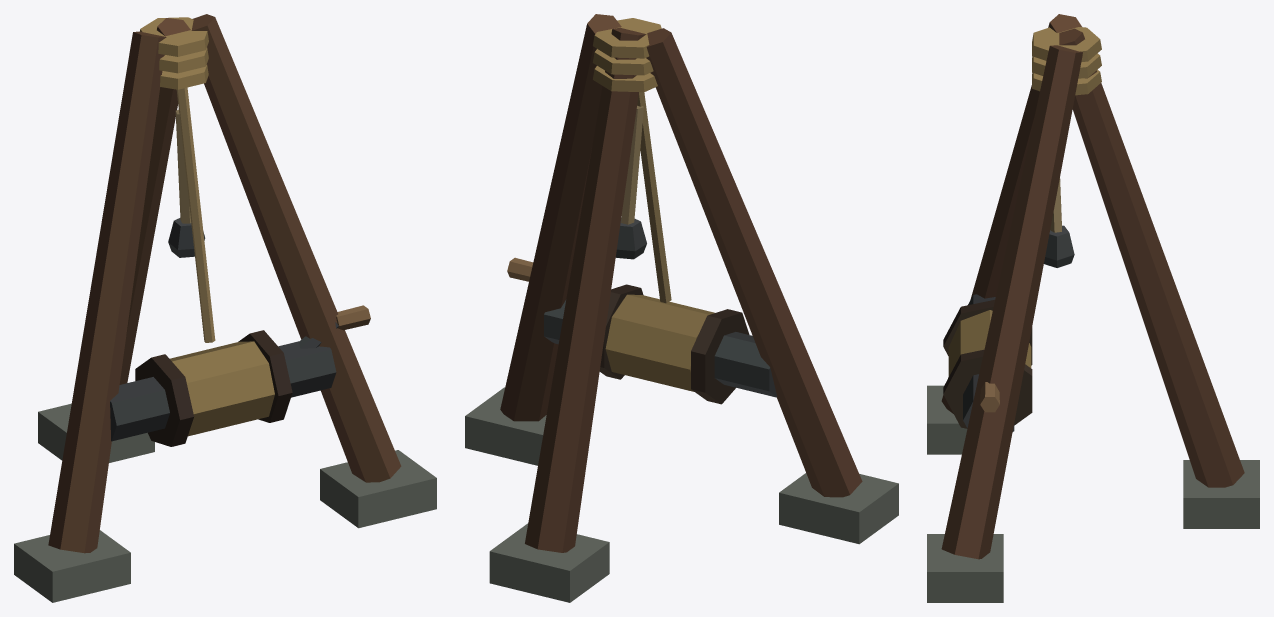
Rendered from rescue-hoist.glb.
The picture shows the model from 3 angles, left to right: view 1: azimuth 30°, elevation 25°; view 2: azimuth 150°, elevation 25°; view 3: azimuth 270°, elevation 25°; orthographic projection. The views are drawn at different scales.
Visible parts, largest first — view 1: Washout rescue hoist; view 2: Washout rescue hoist; view 3: Washout rescue hoist.
Boxes of the visible parts, x1=… form: Washout rescue hoist: x1=14, y1=14, x2=436, y2=602; Washout rescue hoist: x1=465, y1=14, x2=898, y2=602; Washout rescue hoist: x1=927, y1=14, x2=1259, y2=602.
Bounding box in the file's own units: 0.98 × 1.17 × 0.74.
